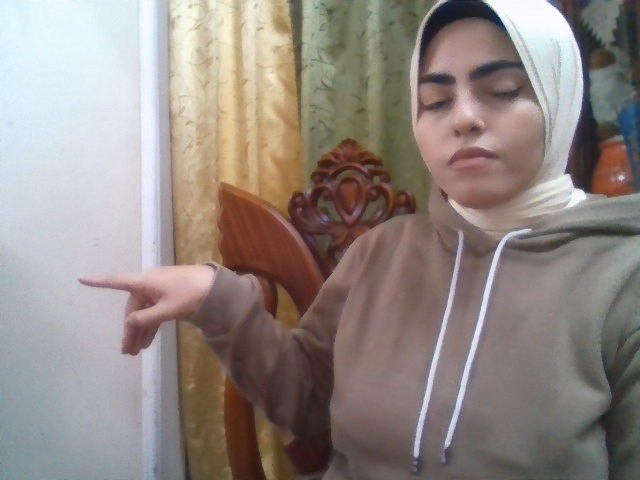P: (77, 265, 211, 356)
